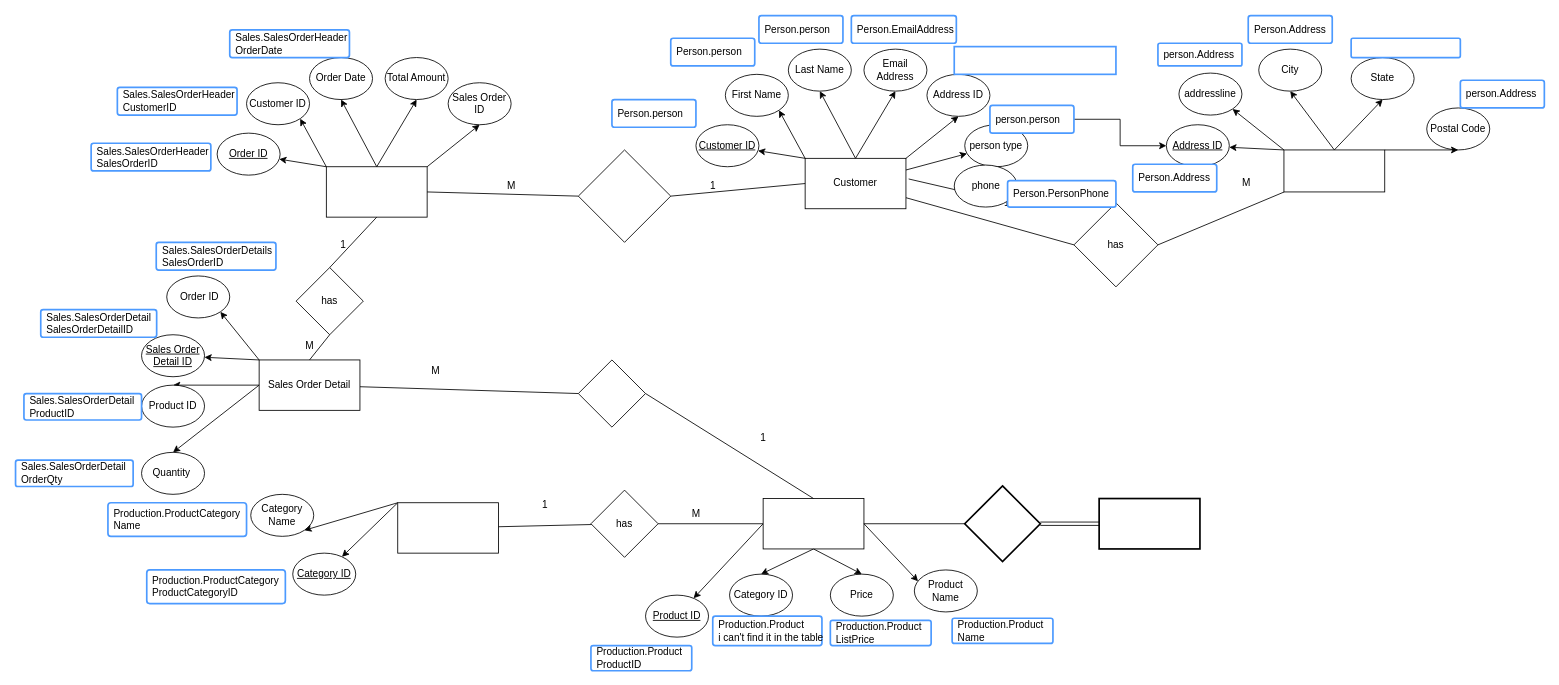
Some shapes in this 1559 by 685 pixel diagram are drawn without their labels. Here are the shapes that lost their labels. From the top down, the box of each, then its label:
(953, 45, 1116, 75): Person.BusinessEntityAddress
(1350, 37, 1461, 58): Person.StateProvince
(1283, 149, 1385, 192): Address
(326, 166, 427, 217): Sales Order
(578, 149, 671, 242): make
(578, 359, 646, 427): contains
(397, 502, 499, 553): Product Category
(762, 498, 864, 549): Product
(1098, 497, 1200, 549): Product Review
